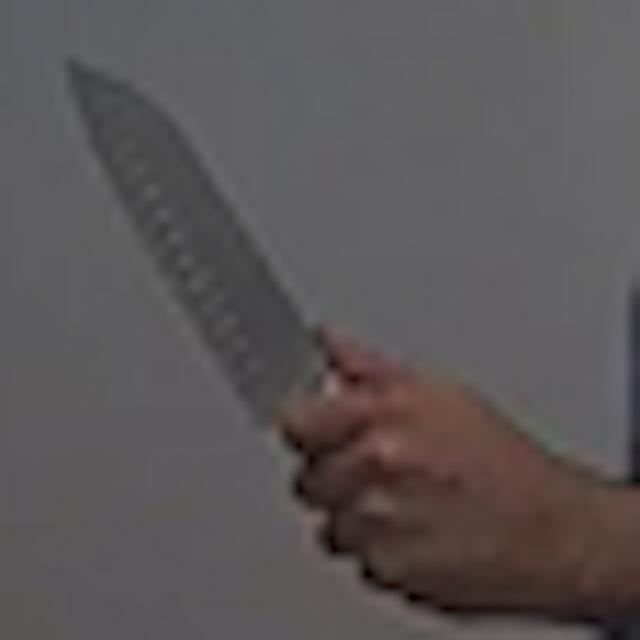suspicion: (51, 36, 634, 629), (54, 42, 340, 404)
